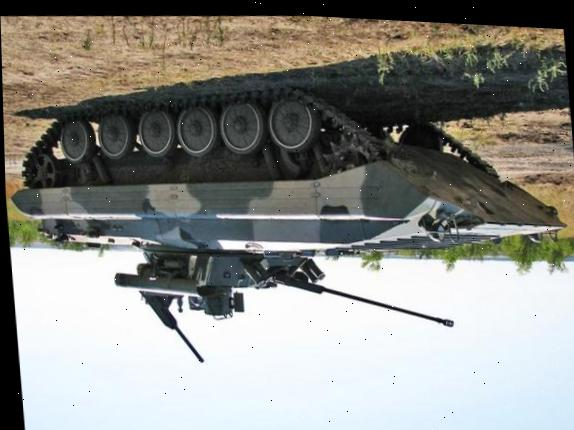tank: (1, 40, 573, 390)
